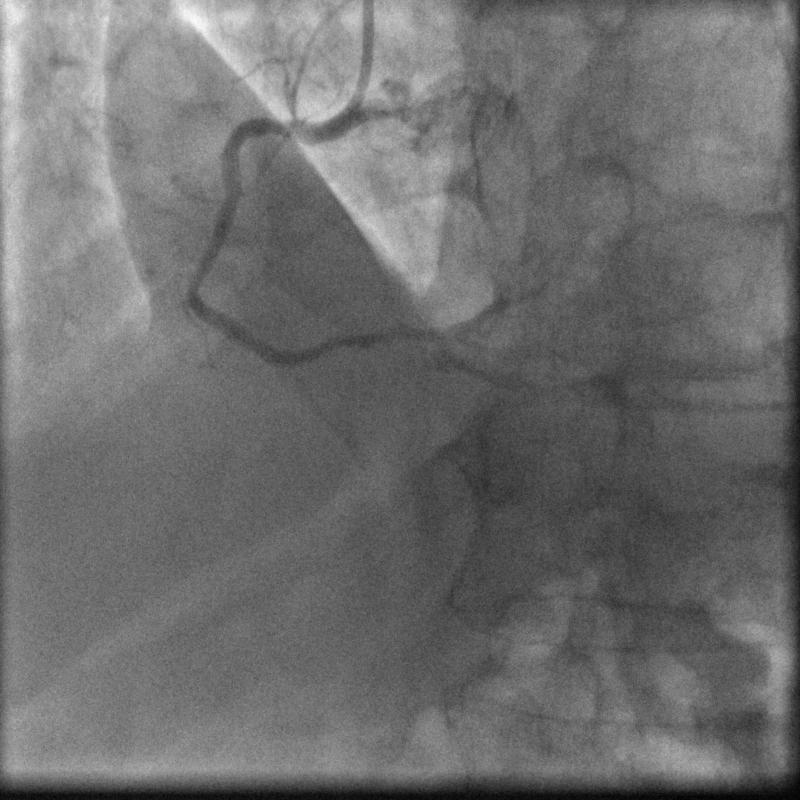Stenosis: (184, 273, 207, 293)
